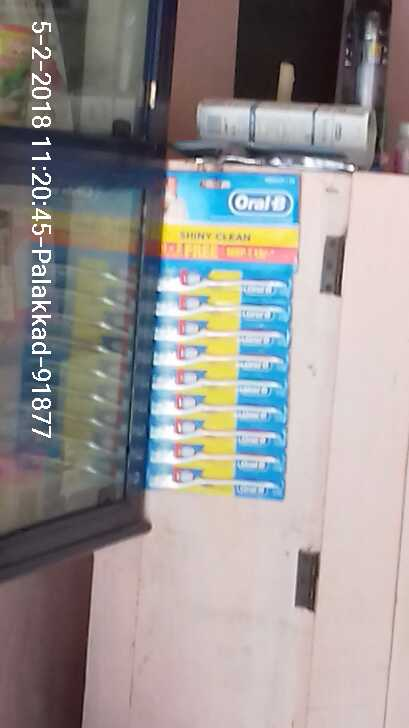oralb: (143, 468, 285, 499), (145, 392, 281, 424), (148, 343, 292, 373), (151, 265, 294, 295), (145, 319, 290, 348), (147, 441, 280, 468), (145, 421, 284, 446), (150, 297, 289, 319), (152, 371, 283, 393)
